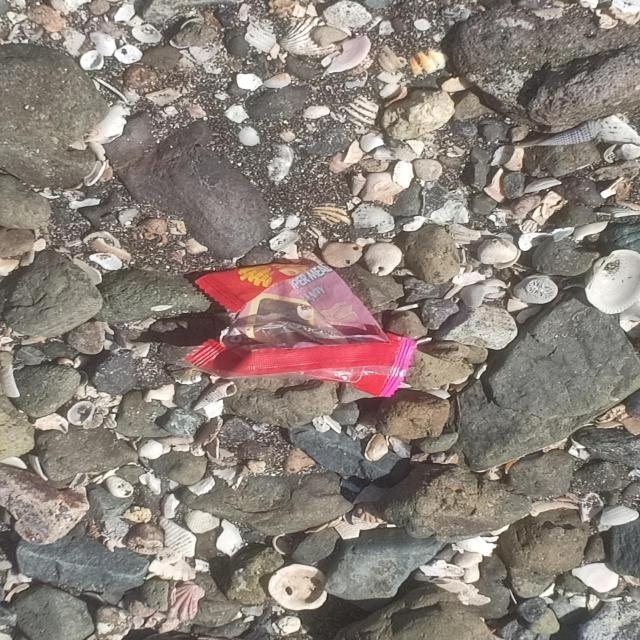plastic_waste: (186, 264, 420, 399)
